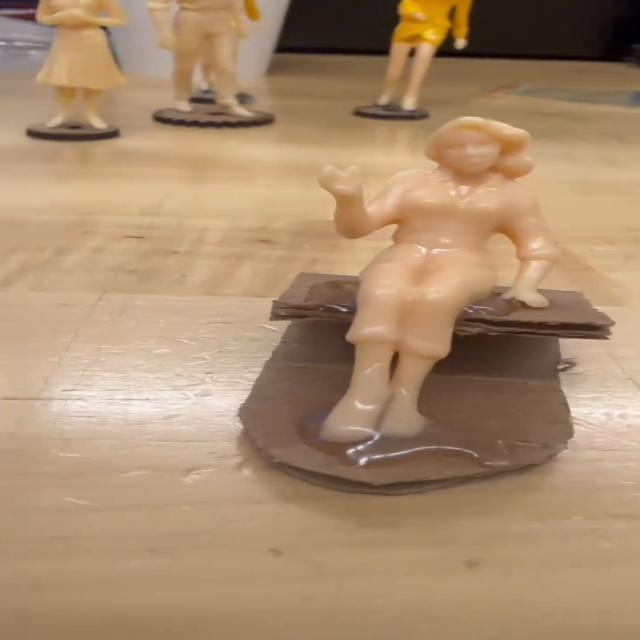Unauthorized: (331, 80, 571, 454)
